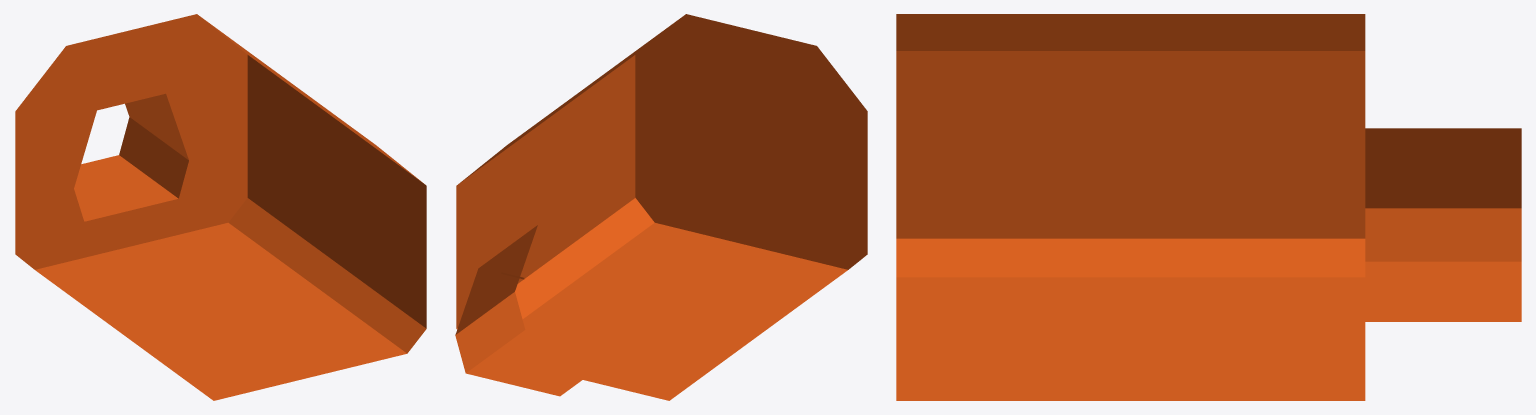
Rendered from room.000.glb.
3 renders of one model, left to right at view 1: azimuth 30°, elevation 25°; view 2: azimuth 150°, elevation 25°; view 3: azimuth 270°, elevation 25°, orthographic. The views are drawn at different scales.
Parts seen in each view (by area): view 1: room.000; view 2: room.000; view 3: room.000.
Part boxes in pixels (x1,y1,x2,y2): room.000: [15, 14, 426, 400]; room.000: [455, 14, 867, 400]; room.000: [896, 14, 1521, 400].
Size of the model in its own units: 6.74 by 6 by 12.
